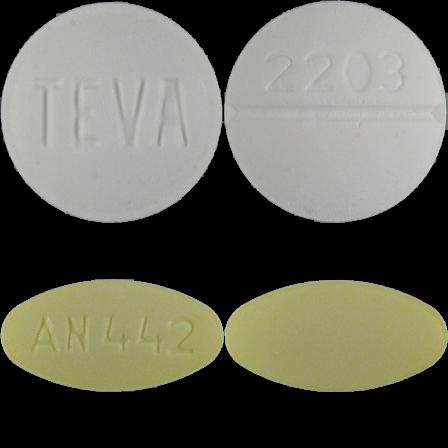42291-596: (0, 0, 224, 224)
